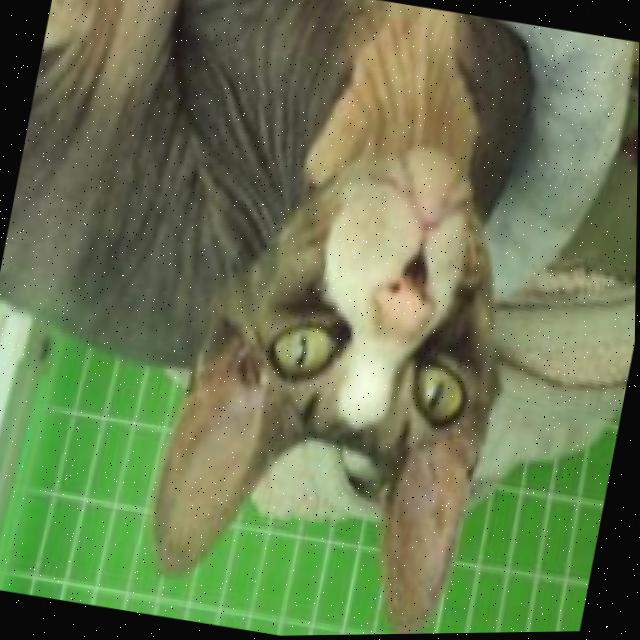Sphynx: (0, 0, 571, 640)
